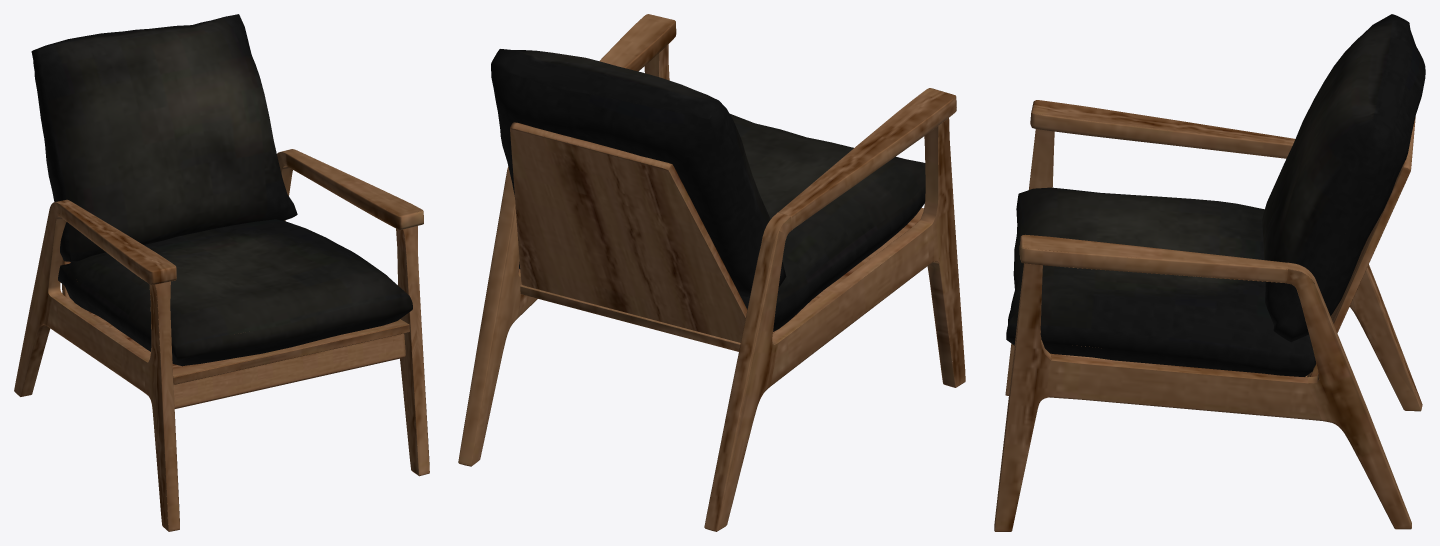
Rendered from fauteuil.glb.
The picture shows the model from 3 angles, left to right: view 1: azimuth 30°, elevation 25°; view 2: azimuth 150°, elevation 25°; view 3: azimuth 270°, elevation 25°; orthographic projection. The views are drawn at different scales.
Parts seen in each view (by area): view 1: modern_arm_chair_01; view 2: modern_arm_chair_01; view 3: modern_arm_chair_01.
Boxes of the visible parts, x1,y1,x2,y2 form: modern_arm_chair_01: (14, 14, 429, 531); modern_arm_chair_01: (458, 14, 965, 531); modern_arm_chair_01: (994, 14, 1425, 531).
Size of the model in its own units: 0.779 by 0.9718 by 0.9537.
Materials: 2 (2 with a texture image).
